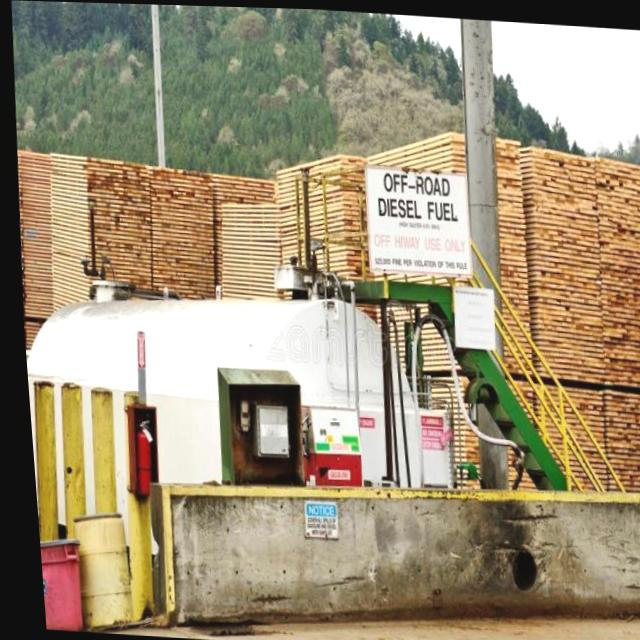FireExtinguisher: (121, 411, 148, 498), (224, 372, 248, 432)
